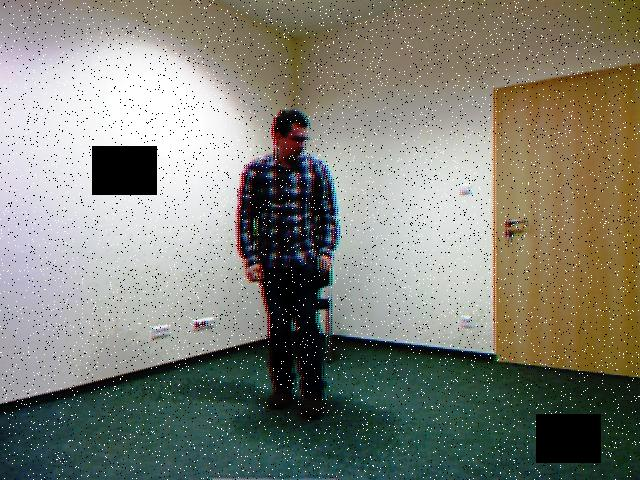standing: (233, 107, 346, 430)
